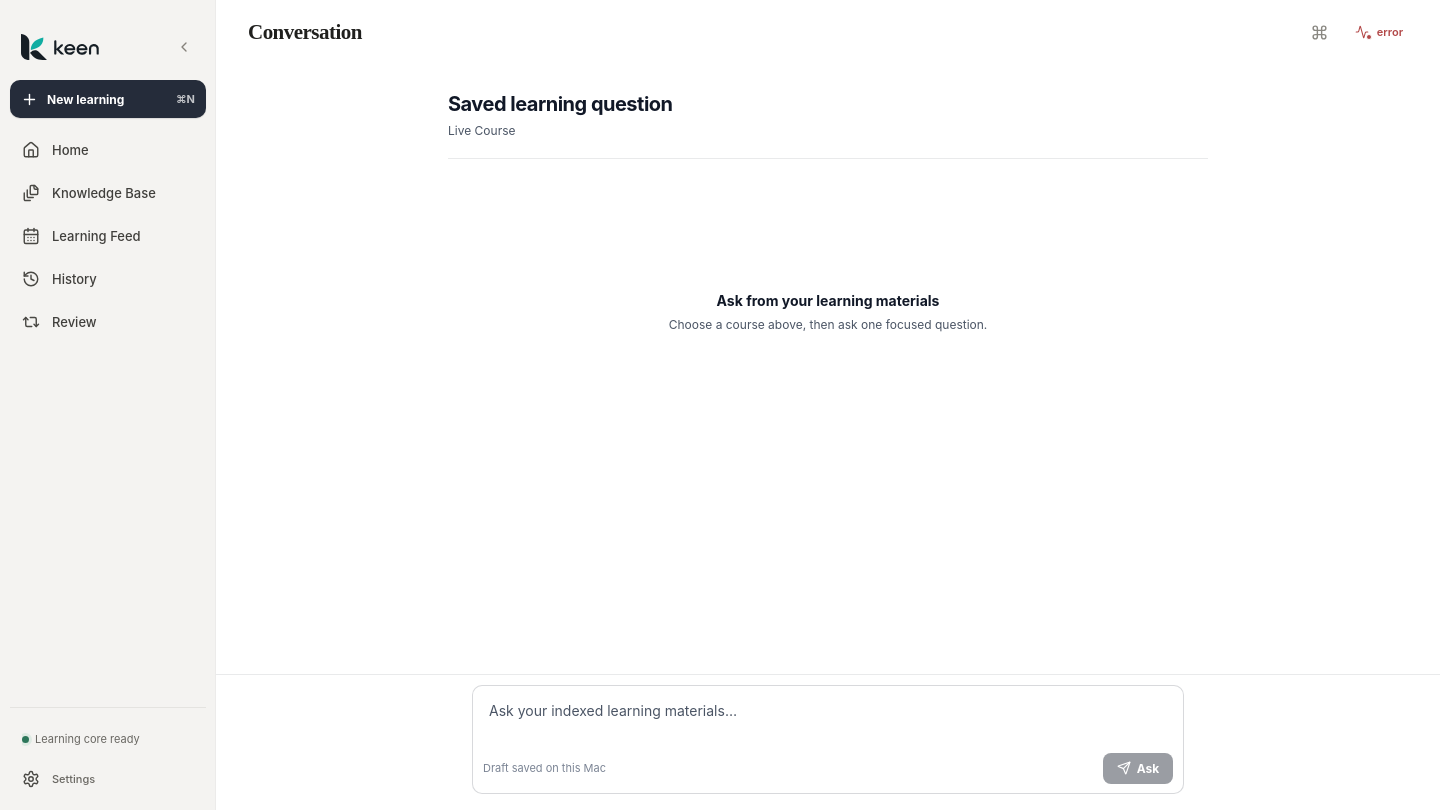
it: Conversation local RAG integration › reconciles a terminal persisted message after the SSE transport ends without a terminal event
Expected: the text named "Conversation course scope" is shown, [448,122,516,140]
Type "Reconcile this answer" into the text box named "Reply". click: (828, 721)
box: [483,695,1173,748]
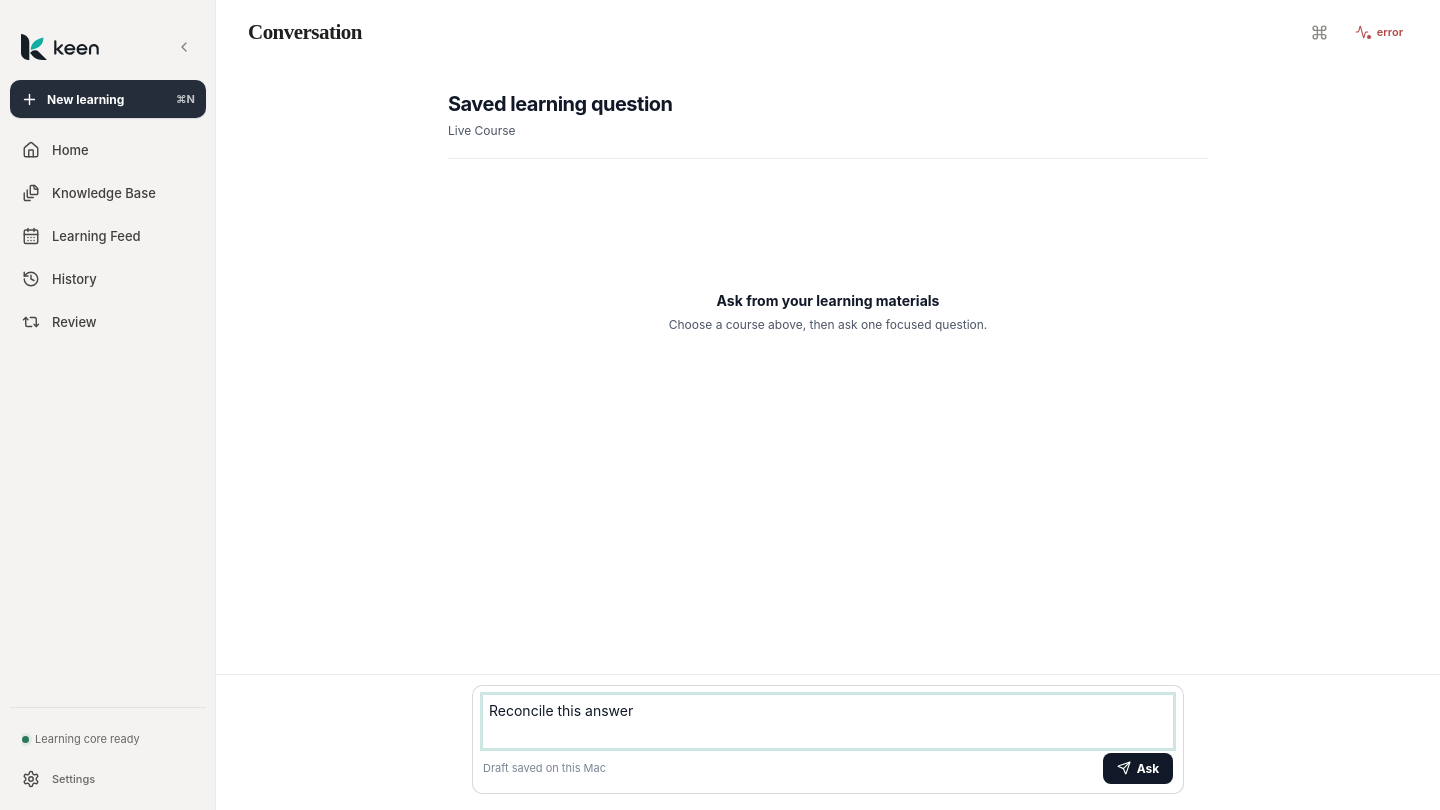
Click the button with aria-label "Ask question". click: (1138, 768)
box: [1103,752,1173,784]
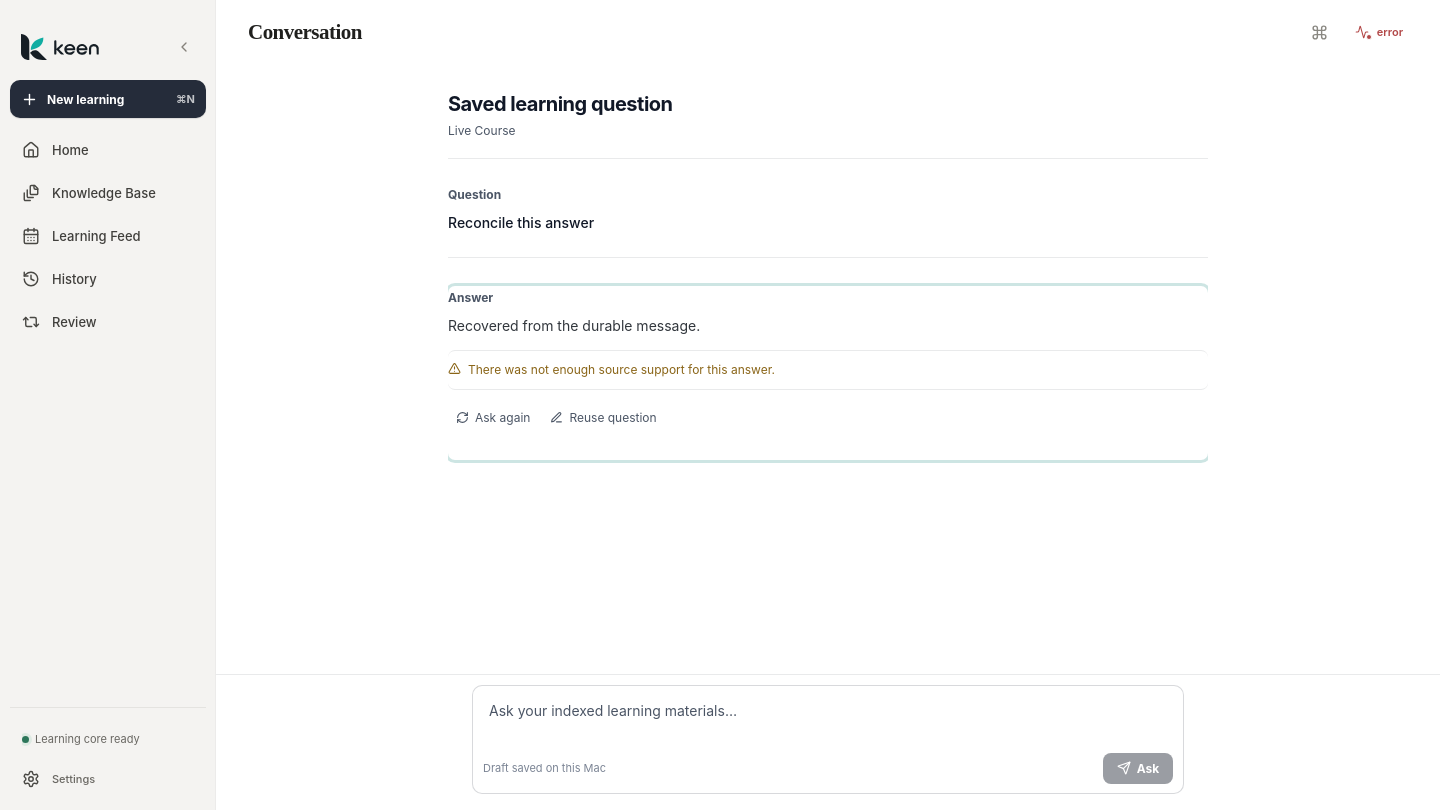
Now the text "Recovered from the durable message." is shown, box [448,317,700,334]
Now the button "Ask again" is shown, box [448,402,538,432]
